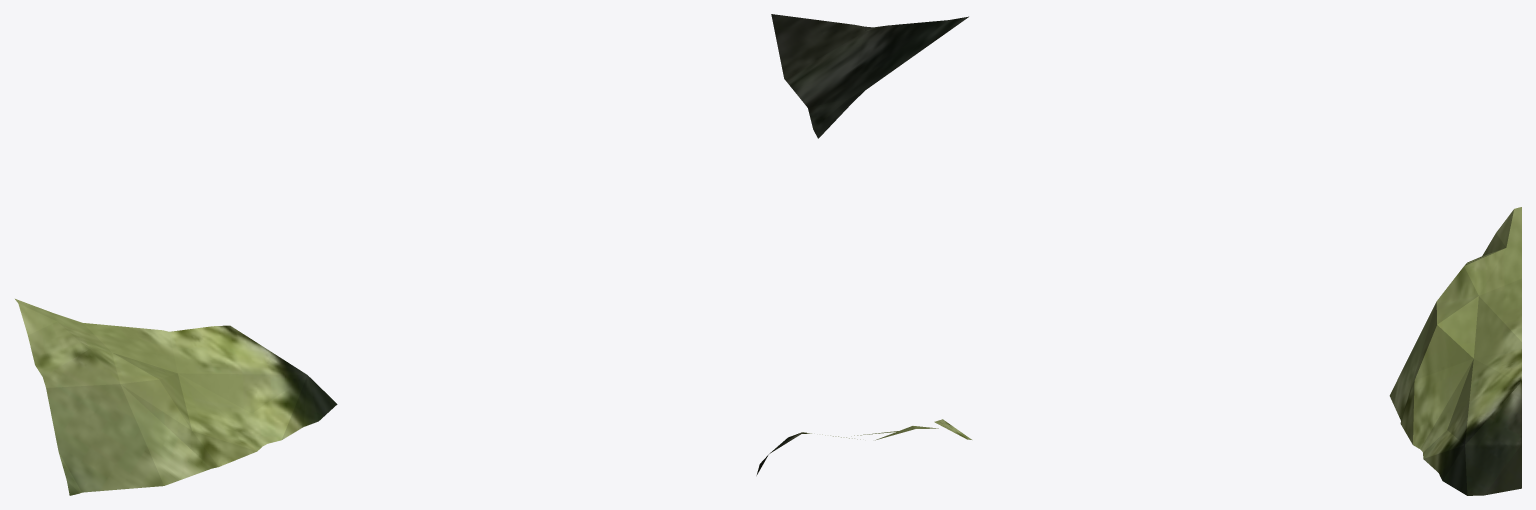
3 renders of one model, left to right at view 1: azimuth 30°, elevation 25°; view 2: azimuth 150°, elevation 25°; view 3: azimuth 270°, elevation 25°, orthographic. The views are drawn at different scales.
Bounding box in the file's own units: 2.95 × 2.95 × 2.95.
1 material, 1 textured.
